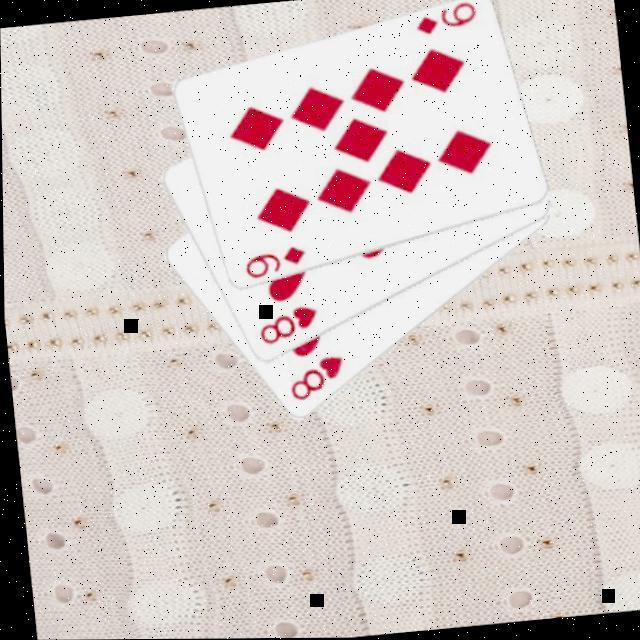8H: (282, 352, 350, 406), (254, 302, 324, 350)
9D: (239, 243, 310, 283), (411, 1, 482, 41)
